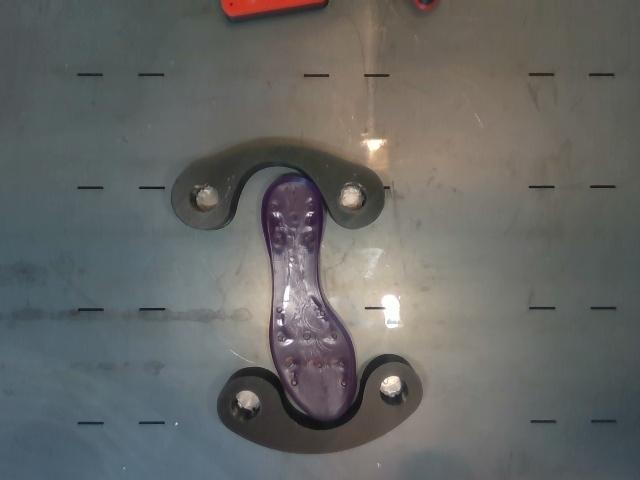shoes: (262, 175, 356, 421)
